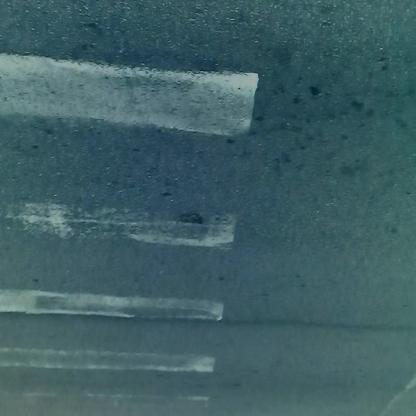crosswalk: (4, 2, 256, 414)
